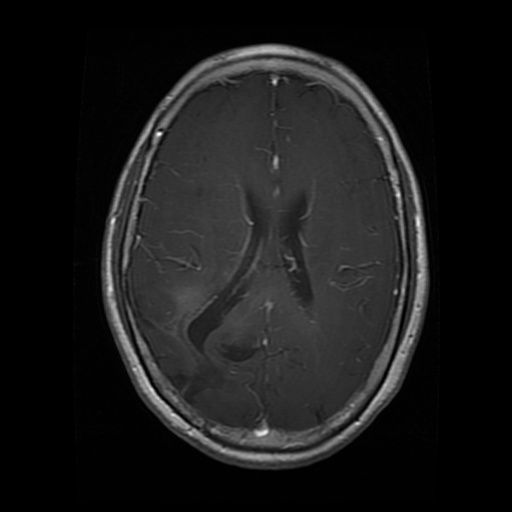glioma: (169, 275, 247, 359)
